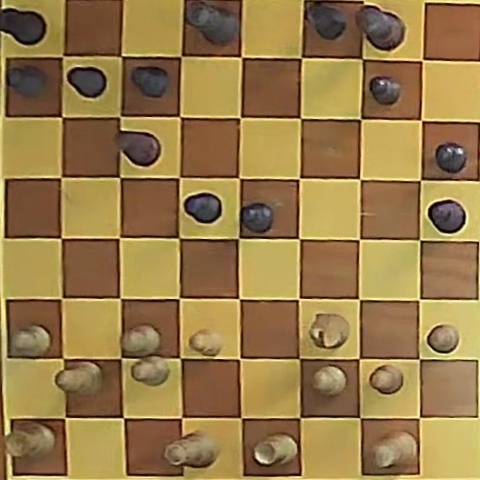black-bishop: (427, 199, 466, 234)
black-king: (356, 5, 403, 50)
black-knight: (115, 131, 159, 166)
black-pawn: (67, 67, 107, 99), (7, 66, 47, 98), (131, 66, 170, 98), (184, 193, 222, 224), (241, 203, 274, 233), (435, 143, 467, 173), (370, 76, 402, 105)
black-queen: (186, 1, 238, 45)
black-rook: (0, 7, 47, 46), (306, 2, 347, 41)
white-bishop: (56, 362, 102, 395)
white-king: (371, 431, 417, 469)
white-knight: (309, 313, 349, 347)
white-pawn: (11, 325, 51, 357), (131, 356, 169, 386), (122, 325, 160, 355), (312, 366, 346, 396), (370, 364, 404, 394), (190, 328, 224, 356), (427, 325, 459, 353)
white-queen: (164, 430, 220, 468)
white-rook: (6, 422, 56, 459), (253, 433, 297, 466)
